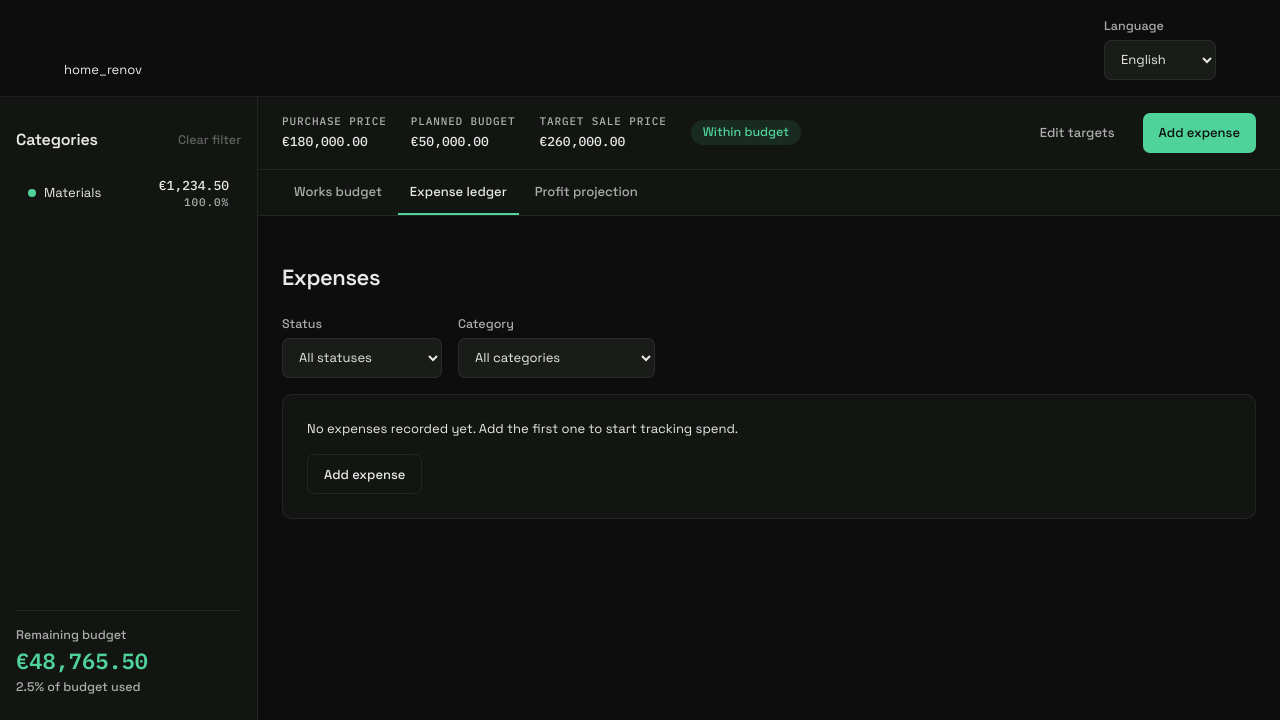
Test: App › switches language from the header and re-renders the connected screen
The image size is (1280, 720).
Expected: the heading "Expenses" is shown, [282,264,380,290]
Select "Português" in the dropdown labelled "Language" at [1160, 60], box [1104,40,1216,80]
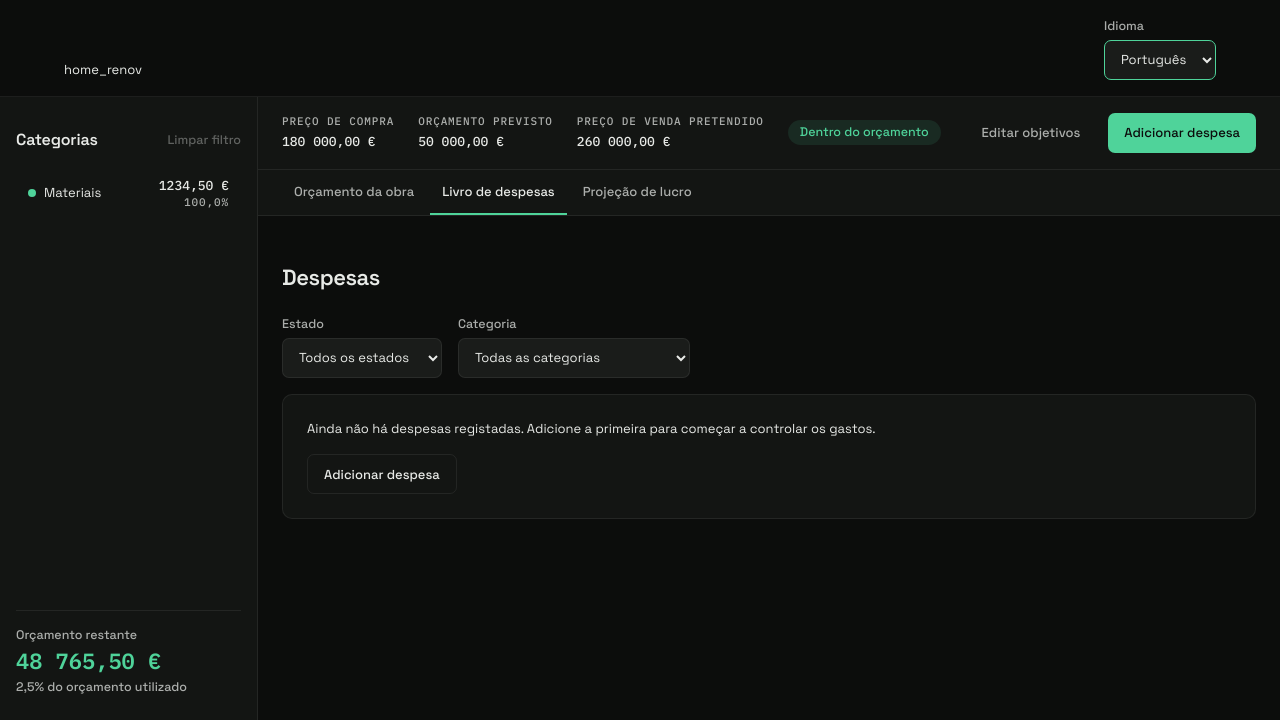
Expected: the heading "Despesas" is shown, [282,264,380,290]
